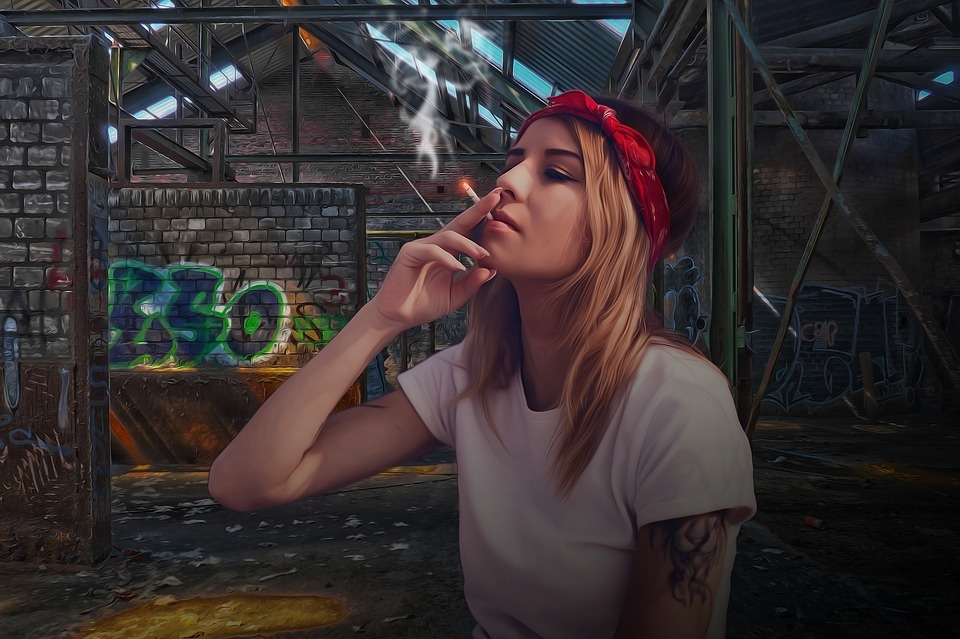sigaretta: (454, 179, 501, 232)
